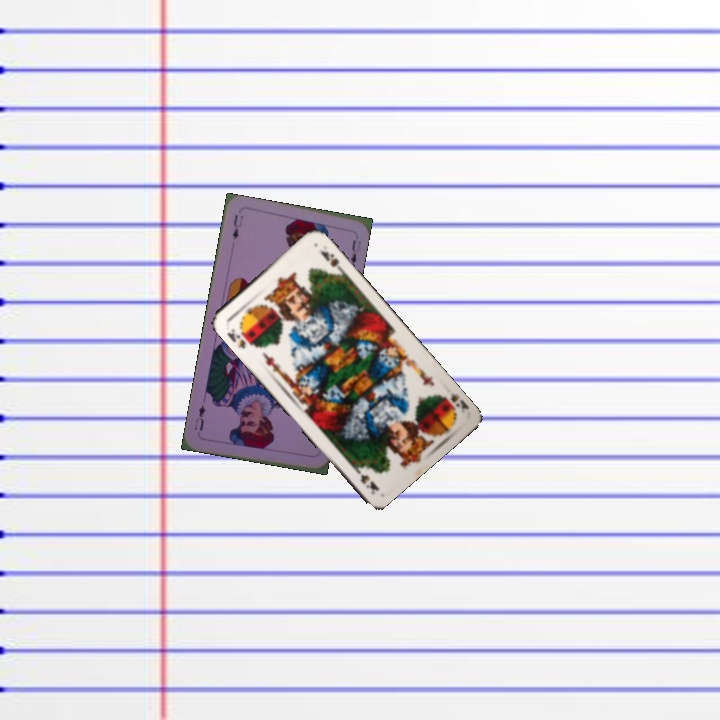EU: (228, 211, 246, 242)
SK: (435, 389, 471, 417), (223, 323, 257, 351)
